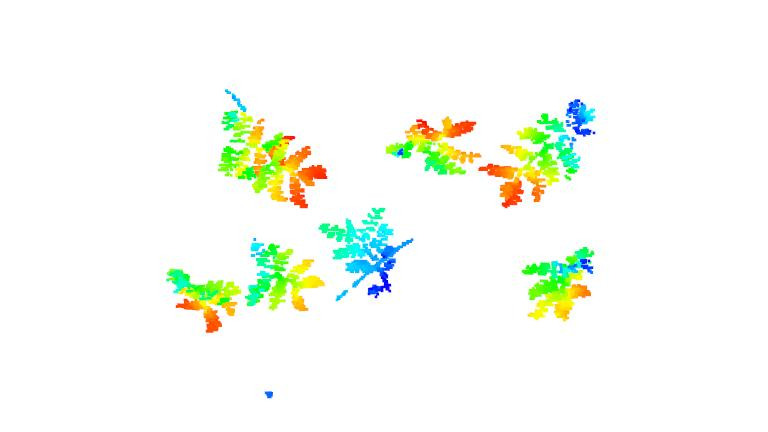chickpea: (481, 96, 597, 211), (213, 110, 333, 211), (320, 206, 406, 297), (380, 111, 479, 180), (242, 235, 326, 313), (519, 244, 601, 322), (159, 265, 242, 336)
